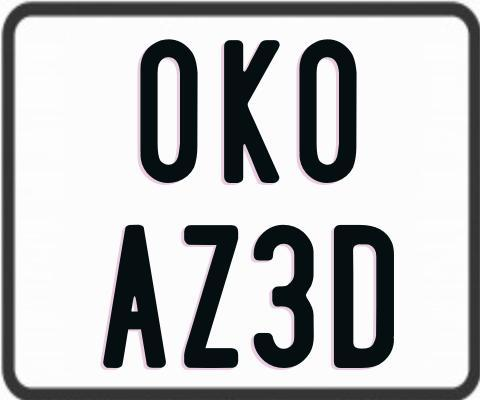0: (137, 39, 201, 189), (298, 36, 362, 184)
3: (253, 225, 319, 374)
A: (100, 223, 166, 367)
D: (331, 223, 395, 370)
K: (221, 40, 281, 184)
Z: (181, 223, 235, 366)
